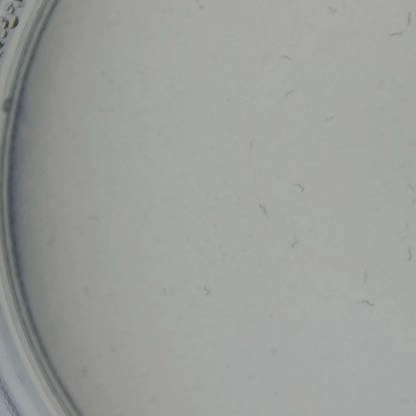worm: (194, 280, 214, 310), (289, 175, 313, 199), (355, 294, 378, 317), (286, 229, 303, 259), (272, 50, 301, 67), (279, 81, 303, 101), (253, 199, 274, 221), (383, 30, 404, 47), (401, 180, 416, 201), (400, 241, 416, 260), (359, 266, 375, 285), (403, 8, 416, 30), (191, 0, 207, 16), (248, 133, 259, 155), (325, 0, 341, 15), (87, 213, 105, 226)
